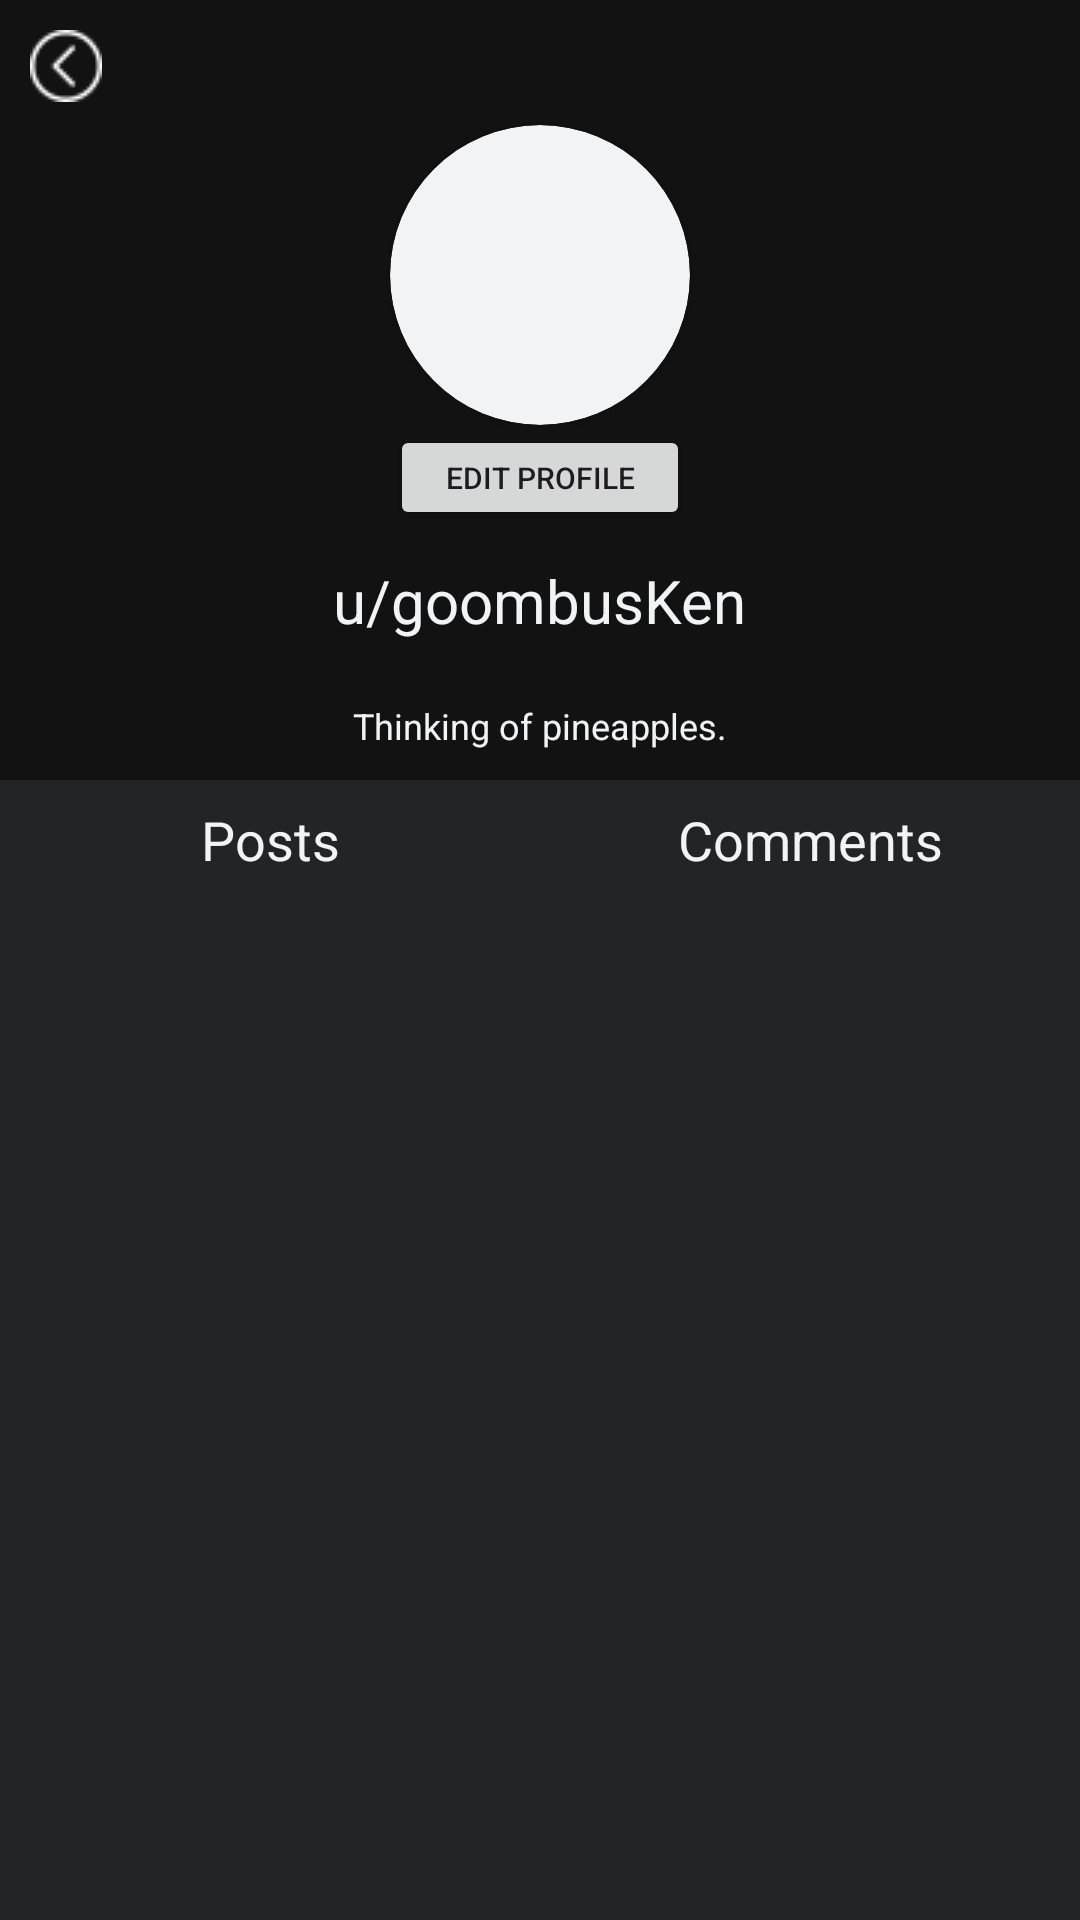

Icon click points for this 1080*1920 phone screenshot, format point (x, y):
leftarrow: point (66, 66)
